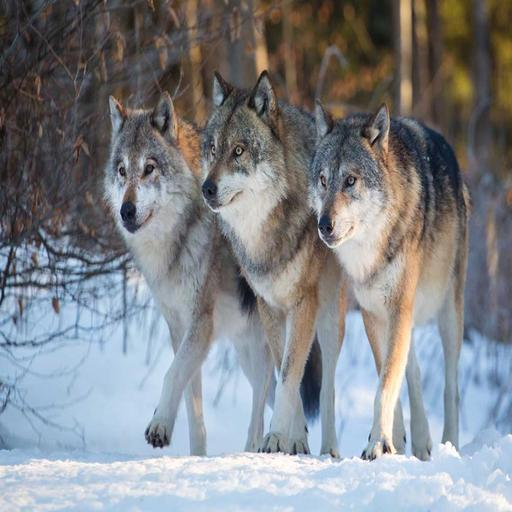Wolf: (100, 91, 329, 459), (202, 65, 392, 460), (309, 101, 475, 466)
